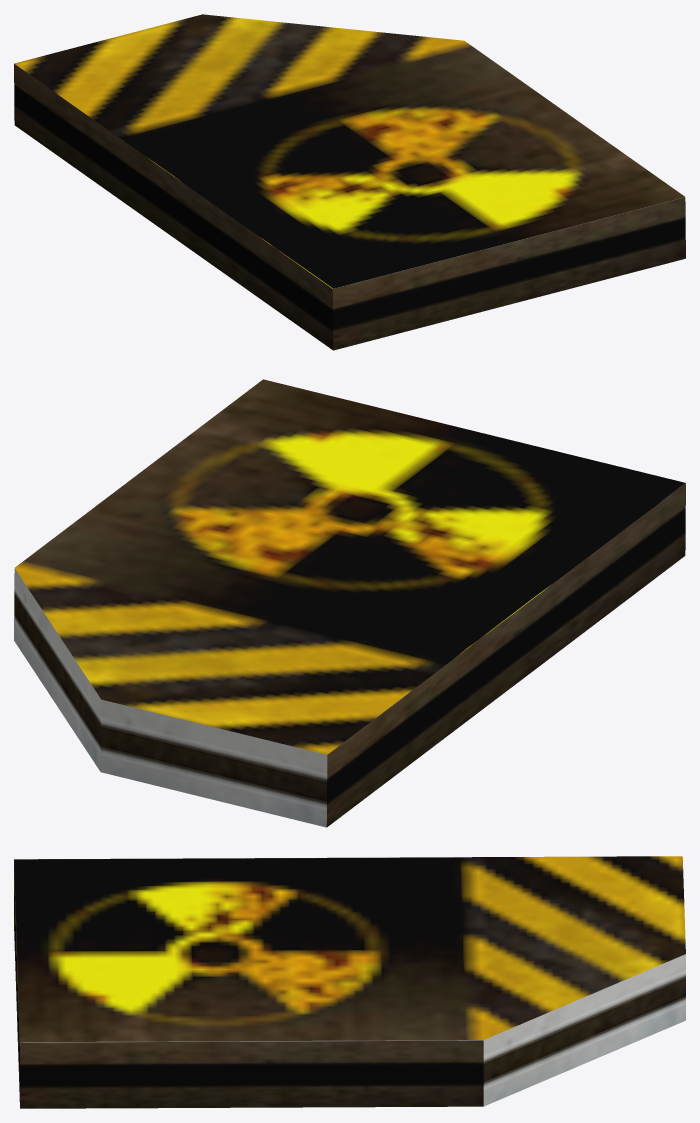
Rendered from Access card_yellow.obj.
The picture shows the model from 3 angles, top to bottom: view 1: azimuth 30°, elevation 25°; view 2: azimuth 150°, elevation 25°; view 3: azimuth 270°, elevation 25°; orthographic projection. The views are drawn at different scales.
Parts seen in each view (by area): view 1: Box01; view 2: Box01; view 3: Box01.
Boxes of the visible parts, box(x1,y1,x2,y2) form: Box01: box(14, 14, 685, 350); Box01: box(14, 379, 685, 827); Box01: box(14, 856, 685, 1108).
Bounding box in the file's own units: 50.95 × 8.8 × 75.98.
